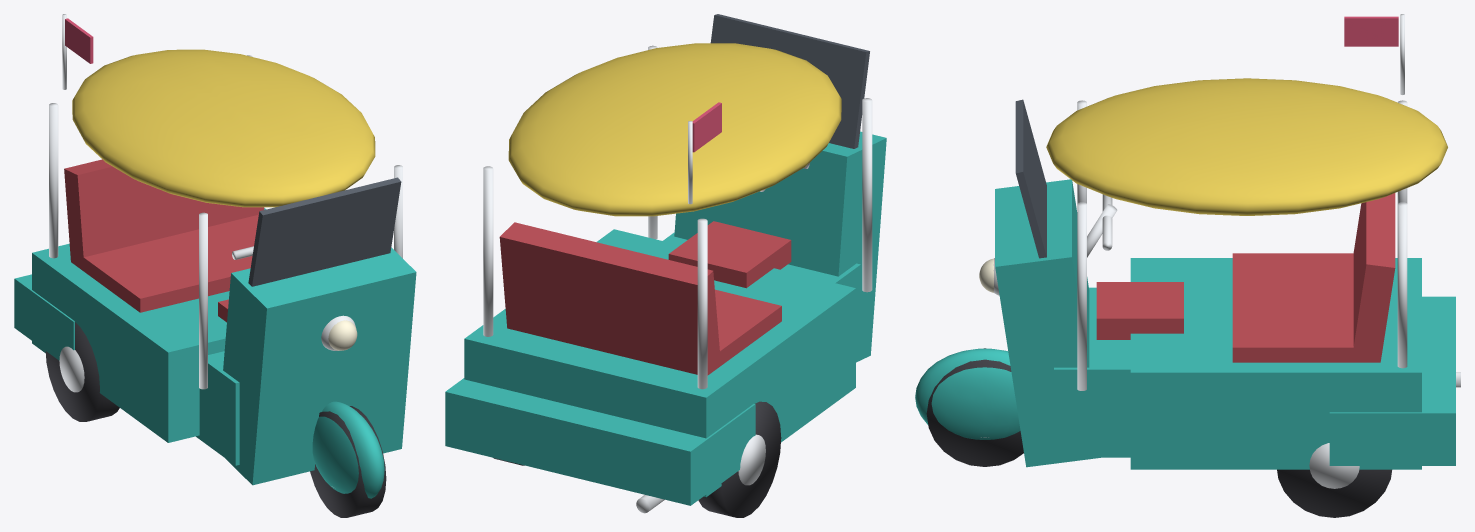
File: tuktuk.glb
3 renders of one model, left to right at view 1: azimuth 30°, elevation 25°; view 2: azimuth 150°, elevation 25°; view 3: azimuth 270°, elevation 25°, orthographic. The views are drawn at different scales.
Parts seen in each view (by area): view 1: body, wheel-back-right, wheel-front; view 2: body, wheel-back-right; view 3: body, wheel-back-left, wheel-front.
Boxes of the visible parts, x1=… form: body: x1=14, y1=14, x2=416, y2=498; wheel-back-right: x1=45, y1=322, x2=119, y2=421; wheel-front: x1=310, y1=406, x2=386, y2=517; body: x1=445, y1=14, x2=886, y2=513; wheel-back-right: x1=698, y1=401, x2=781, y2=517; body: x1=915, y1=14, x2=1460, y2=469; wheel-back-left: x1=1277, y1=443, x2=1391, y2=517; wheel-front: x1=926, y1=348, x2=1023, y2=466.
Bounding box in the file's own units: 1.12 × 1.66 × 2.05.
